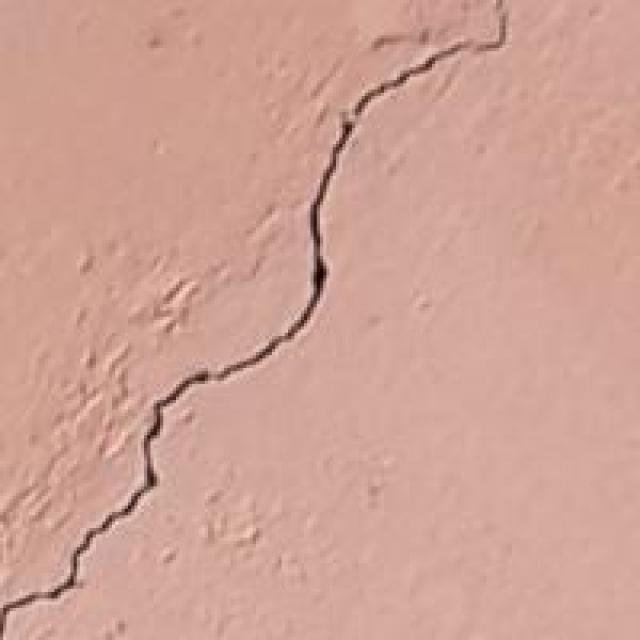Crack: (5, 6, 542, 640)
